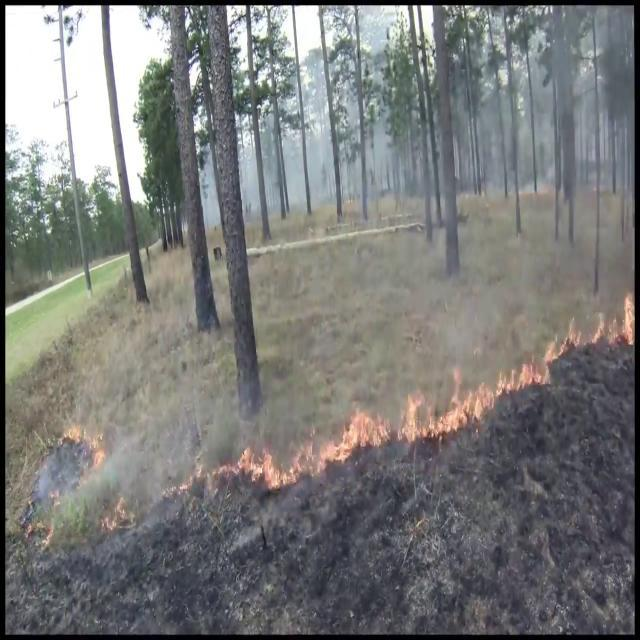Fire: (336, 377, 474, 458), (196, 444, 328, 496), (484, 332, 558, 410), (569, 292, 640, 360), (64, 423, 119, 495)
